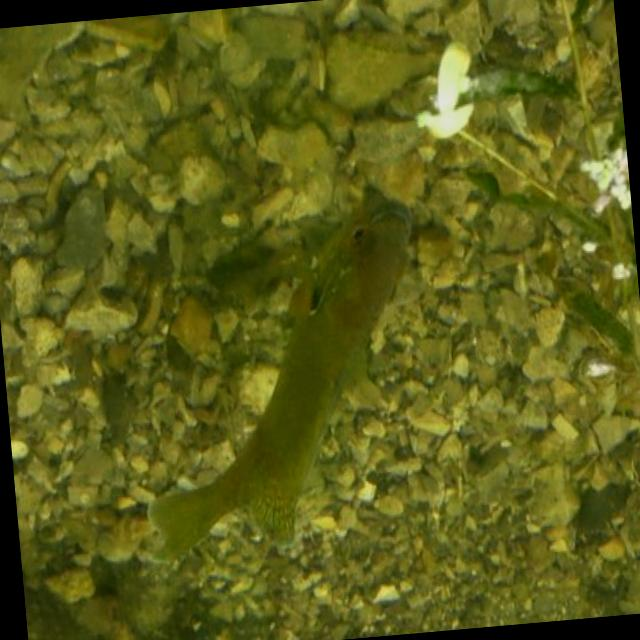Gunes Levregi: (112, 186, 444, 590)
